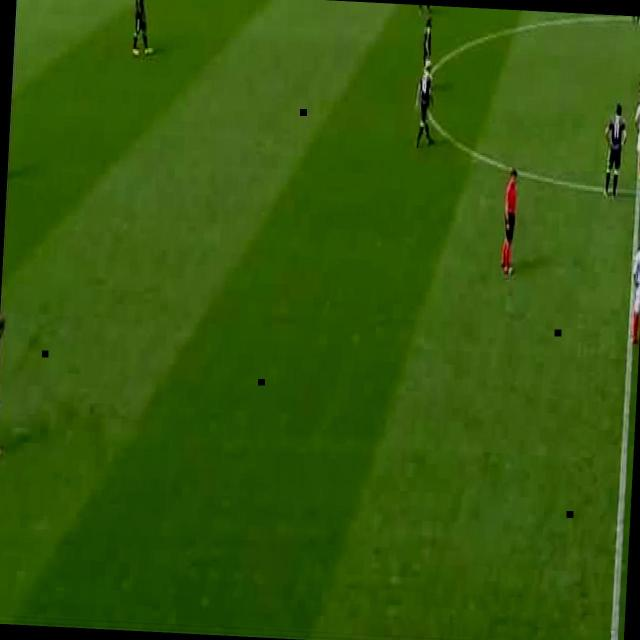ball: (638, 80, 640, 92)
player-white: (602, 104, 628, 198), (412, 60, 438, 148), (501, 168, 521, 276), (130, 0, 156, 58), (629, 230, 640, 344), (632, 91, 640, 177), (423, 17, 433, 75), (417, 5, 431, 12), (633, 16, 640, 22)
